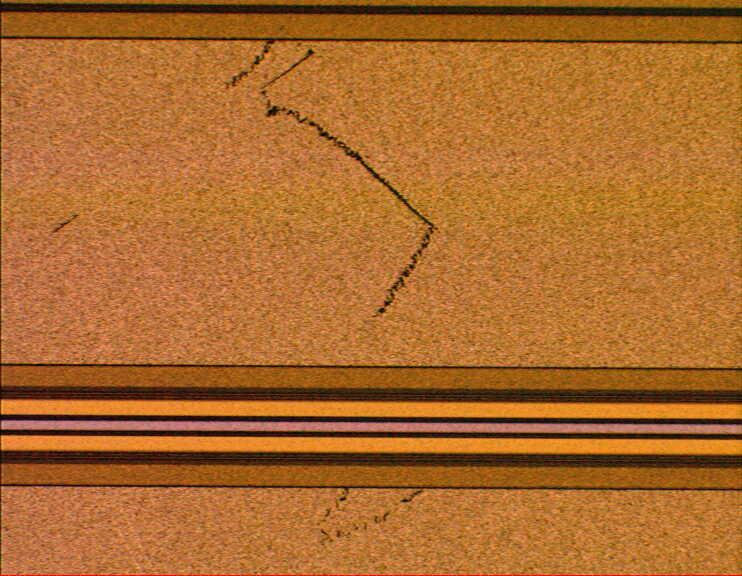SCRATCH: (20, 16, 450, 558)
